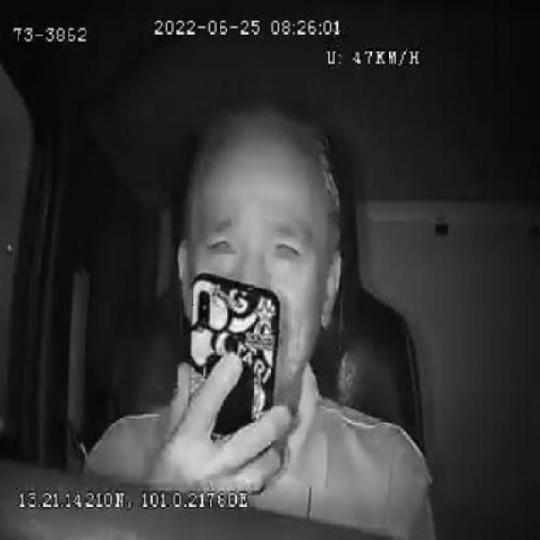phone: (190, 275, 279, 488)
